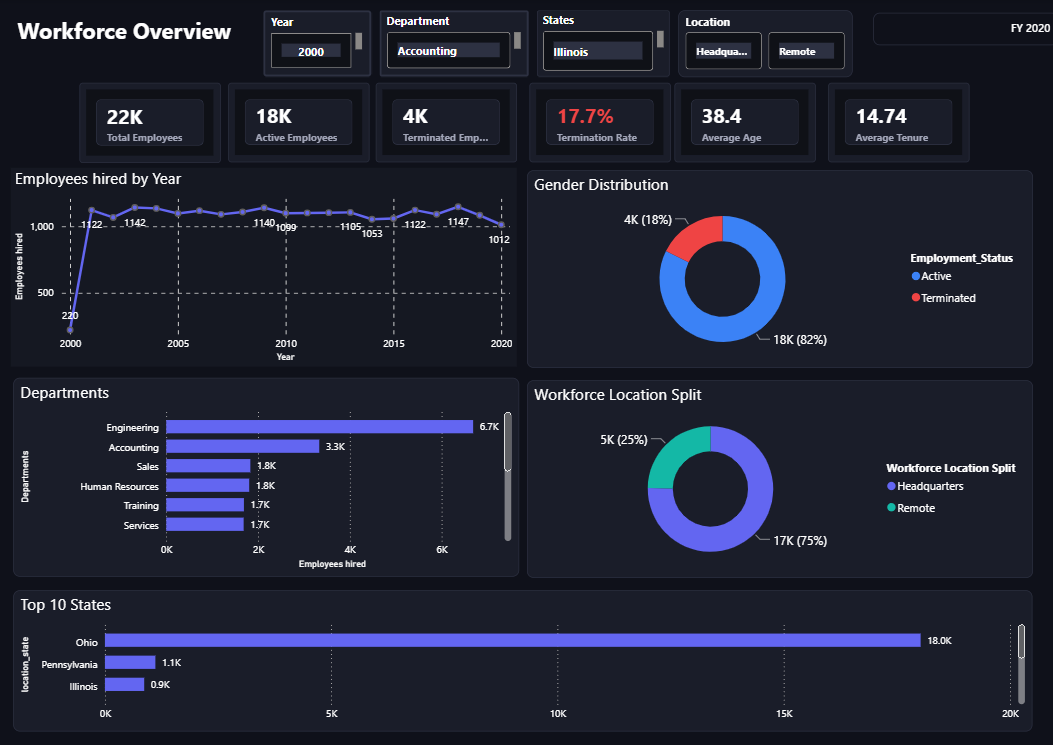

This screenshot's page, from the dashboard's own definition file:
{"tool":"powerbi","page":{"name":"Executive Workforce Overview","canvas":[1280,900],"ordinal":0},"visuals":[{"type":"textbox","box":[20,15,276.7,45],"z":0},{"type":"cardVisual","fields":{"Data":["project_hr_analytics HR.Total Employees"]},"box":[99,100.6,170,96.7],"z":0,"group":"g2"},{"type":"lineChart","fields":{"Y":["CountNonNull(project_hr_analytics HR.id)"],"Category":["Dim Date.Year"]},"box":[16.3,204.1,610,240],"z":1000},{"type":"donutChart","title":"Gender Distribution","fields":{"Y":["KPI Measures.Total Employees"],"Category":["project_hr_analytics HR.Employment_Status"]},"box":[639.8,206.1,610,238],"z":2000},{"type":"textbox","box":[1057,16,223,39],"z":3000},{"type":"barChart","title":"Departments","fields":{"Category":["project_hr_analytics HR.department"],"Y":["CountNonNull(project_hr_analytics HR.id)"]},"box":[20,456.7,610,240],"z":4000},{"type":"group","id":"g1","title":"Group 1","box":[321.5,13.7,710.1,80.8],"z":5000},{"type":"donutChart","title":"Workforce Location Split","fields":{"Category":["project_hr_analytics HR.location"],"Y":["CountNonNull(project_hr_analytics HR.id)"]},"box":[640,460,610,238],"z":6000},{"type":"cardVisual","fields":{"Data":["KPI Measures.Active Employees"]},"box":[278.3,100.6,170.4,95.9],"z":7000,"group":"g2"},{"type":"barChart","title":"Top 10 States","fields":{"Category":["project_hr_analytics HR.location_state"],"Y":["CountNonNull(project_hr_analytics HR.id)"]},"box":[19.8,713.1,1229.7,170.7],"z":7000},{"type":"group","id":"g2","title":"Group 2","box":[99,100.6,1072.8,96],"z":8000},{"type":"cardVisual","fields":{"Data":["KPI Measures.Terminated Employees"]},"box":[456.8,100.6,170.4,95.9],"z":8000,"group":"g2"},{"type":"cardVisual","fields":{"Data":["KPI Measures.Termination Rate"]},"box":[642.5,100.6,170.4,95.9],"z":9000,"group":"g2"},{"type":"cardVisual","fields":{"Data":["KPI Measures.Average Age"]},"box":[817,100.6,170.4,95.9],"z":10000,"group":"g2"},{"type":"advancedSlicerVisual","fields":{"Values":["Dim Date.Year"]},"box":[321.5,14.4,130,80],"z":11000,"group":"g1"},{"type":"cardVisual","fields":{"Data":["KPI Measures.Average Tenure"]},"box":[1001.7,100.6,170.4,95.9],"z":11000,"group":"g2"},{"type":"advancedSlicerVisual","title":"Department","fields":{"Values":["project_hr_analytics HR.department"]},"box":[461.5,13.7,180,80],"z":12000,"group":"g1"},{"type":"advancedSlicerVisual","title":"States","fields":{"Values":["project_hr_analytics HR.location_state"]},"box":[651.5,13.7,160,80],"z":13000,"group":"g1"},{"type":"advancedSlicerVisual","title":"Location","fields":{"Values":["project_hr_analytics HR.location"]},"box":[821.5,13.7,210,81],"z":14000,"group":"g1"}]}

Visuals, with their boxes in screenshot pixels (x1, y1, x2, y2), scaled from the page's 1280x900 canvas onto the 1053x745 screenshot:
textbox: detection(16, 12, 244, 50)
cardVisual - project_hr_analytics HR.Total Employees: detection(81, 83, 221, 163)
lineChart - CountNonNull(project_hr_analytics HR.id) x Dim Date.Year: detection(13, 169, 515, 368)
"Gender Distribution" donutChart: detection(526, 171, 1028, 368)
textbox: detection(870, 13, 1052, 46)
"Departments" barChart: detection(16, 378, 518, 577)
"Group 1" group: detection(264, 11, 849, 78)
"Workforce Location Split" donutChart: detection(526, 381, 1028, 578)
cardVisual - KPI Measures.Active Employees: detection(229, 83, 369, 163)
"Top 10 States" barChart: detection(16, 590, 1028, 732)
"Group 2" group: detection(81, 83, 964, 163)
cardVisual - KPI Measures.Terminated Employees: detection(376, 83, 516, 163)
cardVisual - KPI Measures.Termination Rate: detection(529, 83, 669, 163)
cardVisual - KPI Measures.Average Age: detection(672, 83, 812, 163)
advancedSlicerVisual - Dim Date.Year: detection(264, 12, 371, 78)
cardVisual - KPI Measures.Average Tenure: detection(824, 83, 964, 163)
"Department" advancedSlicerVisual: detection(380, 11, 528, 78)
"States" advancedSlicerVisual: detection(536, 11, 668, 78)
"Location" advancedSlicerVisual: detection(676, 11, 849, 78)
